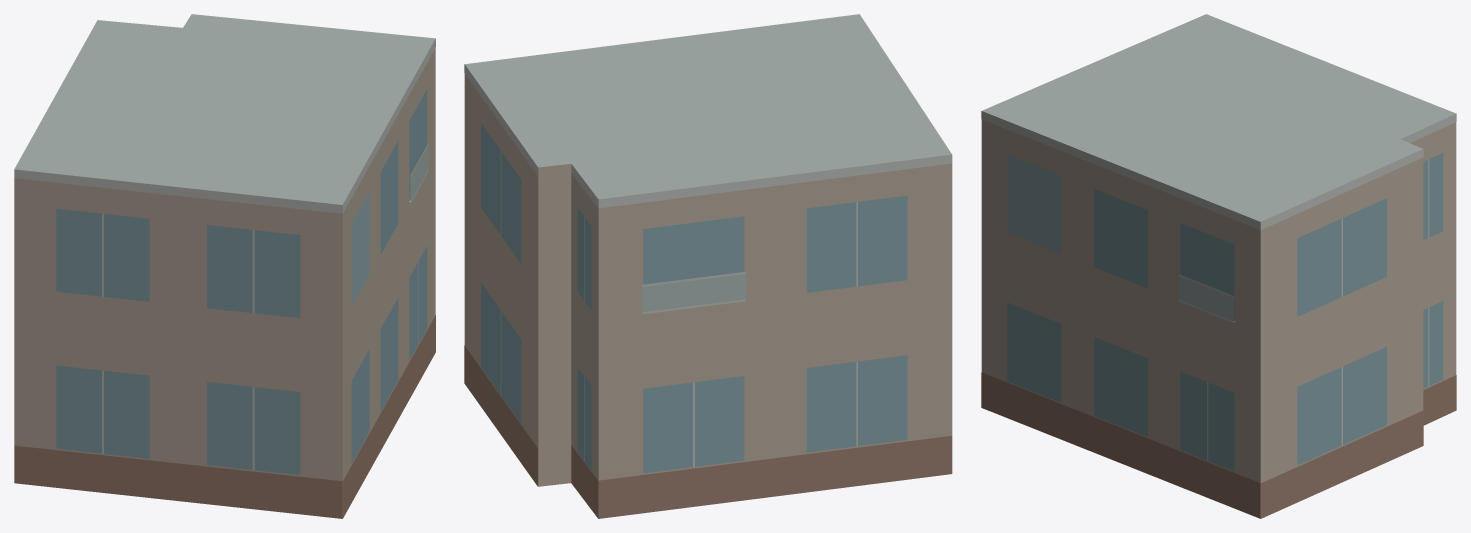
The model's file is survey-upis-32890198.glb.
The picture shows the model from 3 angles, left to right: view 1: azimuth 30°, elevation 25°; view 2: azimuth 150°, elevation 25°; view 3: azimuth 270°, elevation 25°; orthographic projection. The views are drawn at different scales.
Visible parts, largest first — view 1: survey-upis-32890198.tmp; view 2: survey-upis-32890198.tmp; view 3: survey-upis-32890198.tmp.
Part boxes in pixels (x1,y1,x2,y2): survey-upis-32890198.tmp: (14, 14, 435, 518); survey-upis-32890198.tmp: (464, 14, 952, 518); survey-upis-32890198.tmp: (981, 14, 1456, 518).
Bounding box in the file's own units: 13.07 × 8.7 × 12.62.
